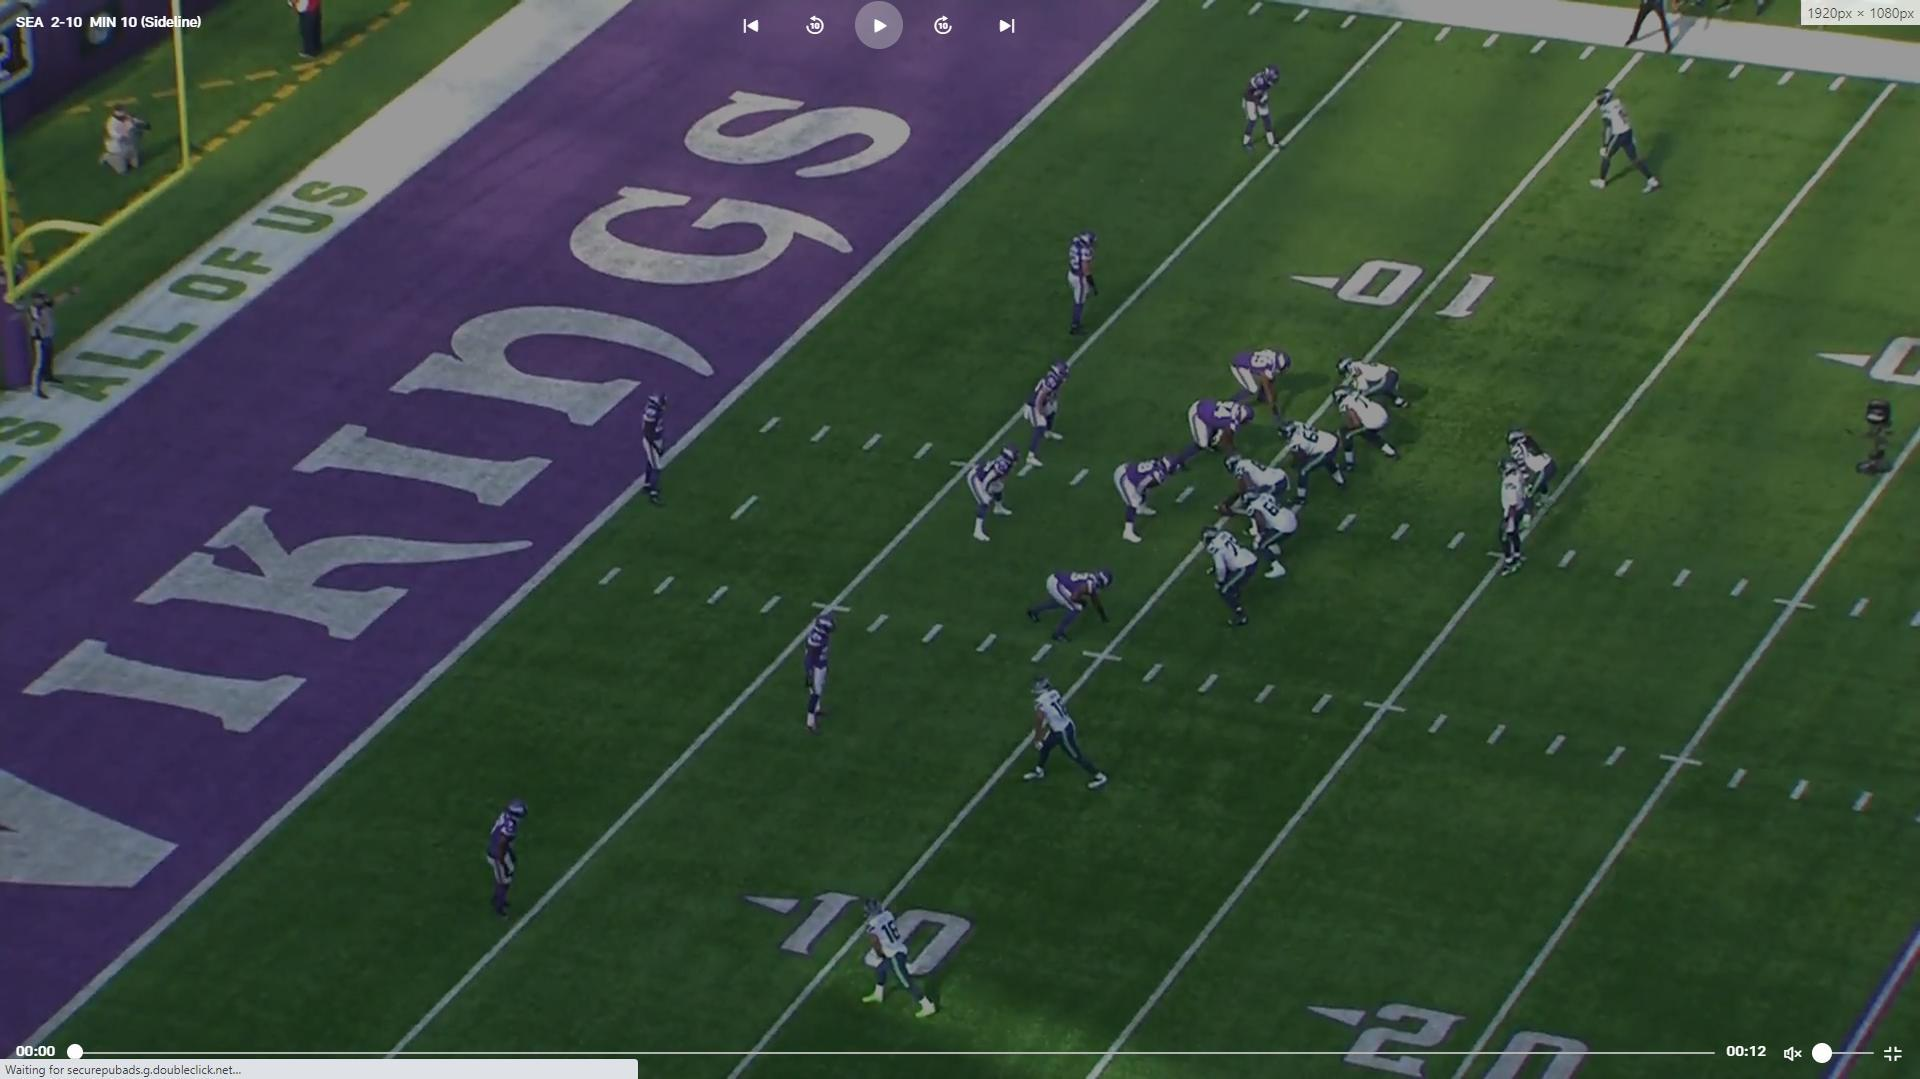player: (1023, 673, 1115, 797), (854, 896, 940, 1020), (1584, 84, 1659, 198), (1025, 564, 1119, 641), (1198, 527, 1263, 634), (798, 604, 848, 737), (961, 438, 1022, 545), (1020, 357, 1076, 470), (1281, 417, 1353, 502), (485, 792, 532, 922), (1166, 399, 1252, 470), (1116, 453, 1183, 544), (1332, 385, 1403, 470), (1239, 60, 1294, 161), (1241, 492, 1302, 582), (1228, 343, 1298, 415), (1062, 226, 1103, 342), (1330, 353, 1404, 416), (1507, 429, 1557, 517), (636, 388, 673, 505), (1492, 458, 1528, 576), (1227, 452, 1293, 515)
ref: (21, 288, 65, 403), (1624, 0, 1685, 55)
